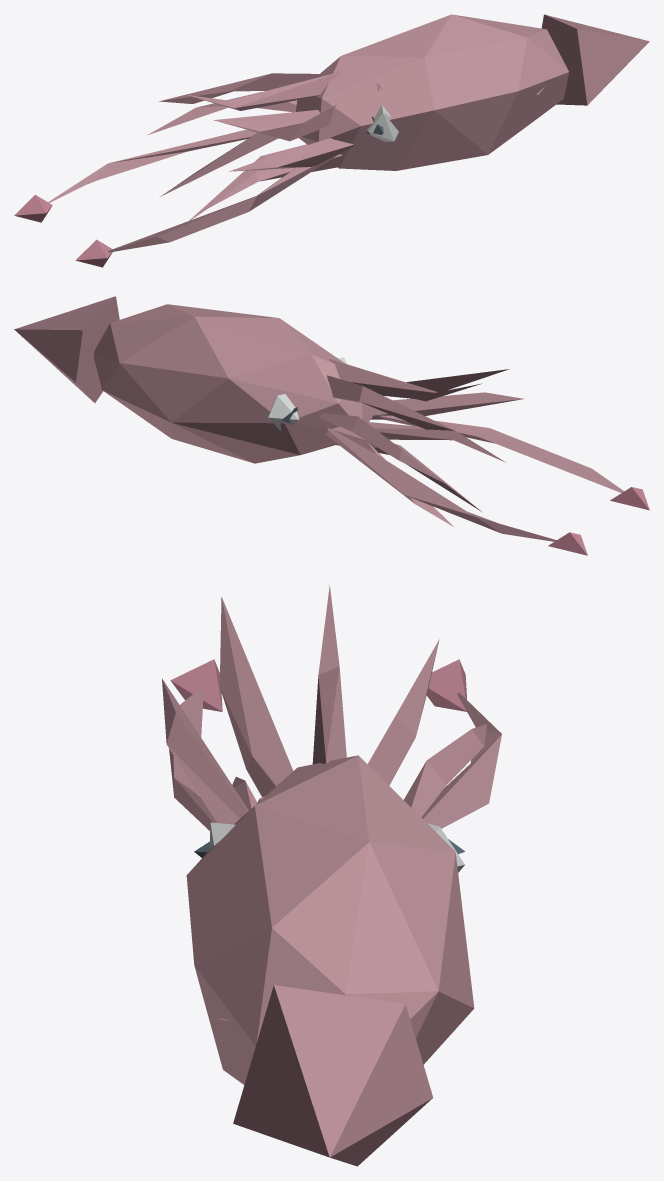
The picture shows the model from 3 angles, top to bottom: view 1: azimuth 30°, elevation 25°; view 2: azimuth 150°, elevation 25°; view 3: azimuth 270°, elevation 25°; orthographic projection. The views are drawn at different scales.
Parts seen in each view (by area): view 1: sea_squid.001; view 2: sea_squid.001; view 3: sea_squid.001.
Part boxes in pixels (box(x1,y1,x2,y2)): sea_squid.001: box(14, 14, 649, 267); sea_squid.001: box(14, 296, 649, 555); sea_squid.001: box(162, 585, 501, 1166).
Bounding box in the file's own units: 5.87 × 1.25 × 1.44.
